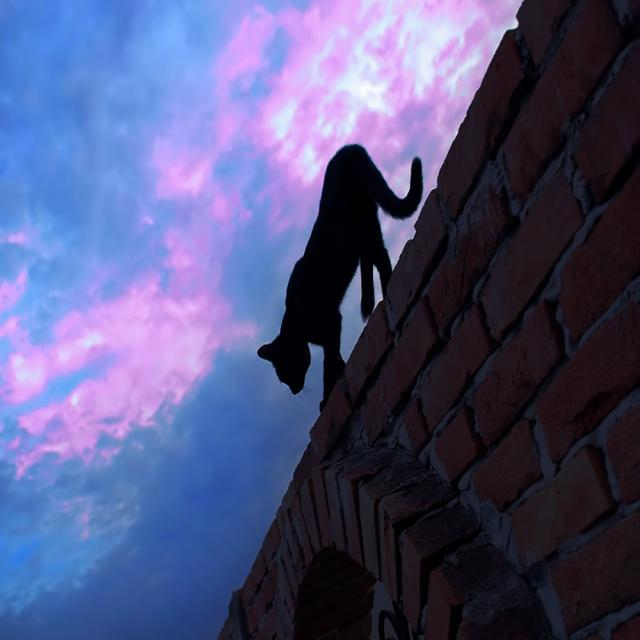Cat: (231, 134, 450, 410)
